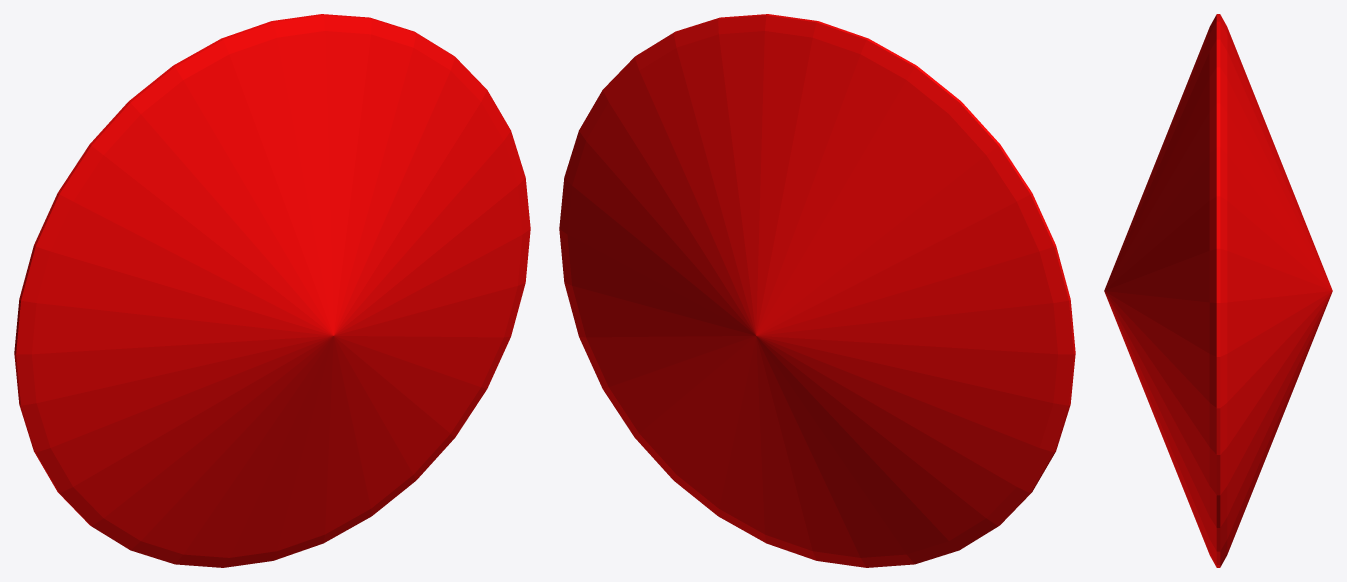
The model's file is gems_007.fbx.
3 renders of one model, left to right at view 1: azimuth 30°, elevation 25°; view 2: azimuth 150°, elevation 25°; view 3: azimuth 270°, elevation 25°, orthographic. The views are drawn at different scales.
Parts seen in each view (by area): view 1: gems.007; view 2: gems.007; view 3: gems.007.
Boxes of the visible parts, bbox=[...] form: gems.007: bbox=[14, 14, 530, 567]; gems.007: bbox=[559, 14, 1075, 567]; gems.007: bbox=[1104, 14, 1332, 567].
Bounding box in the file's own units: 13.16 × 13.16 × 5.43.
